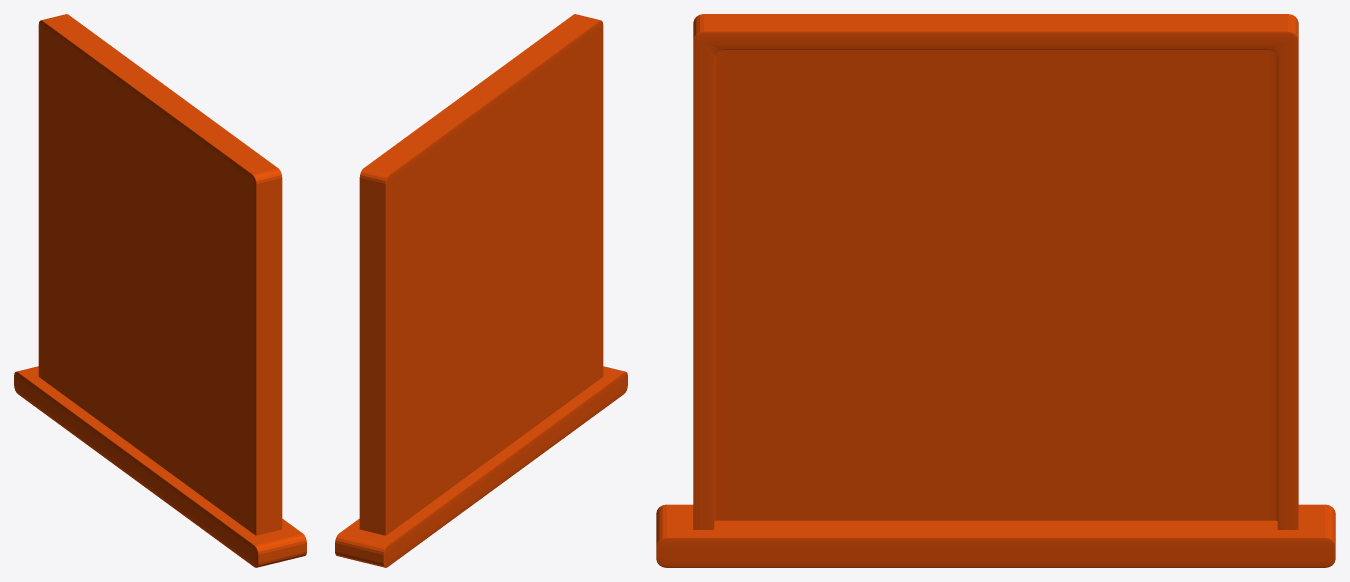
The model's file is billboard.gltf.
3 renders of one model, left to right at view 1: azimuth 30°, elevation 25°; view 2: azimuth 150°, elevation 25°; view 3: azimuth 270°, elevation 25°, orthographic. The views are drawn at different scales.
Parts seen in each view (by area): view 1: Cube.001; view 2: Cube.001; view 3: Cube.001.
Boxes of the visible parts, x1,y1,x2,y2 form: Cube.001: (14,14,306,567); Cube.001: (335,14,627,567); Cube.001: (656,14,1335,567).
Size of the model in its own units: 1 by 7.34 by 8.54.
